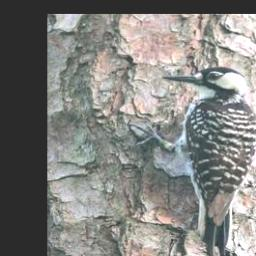Woodpecker: (123, 65, 256, 256)
